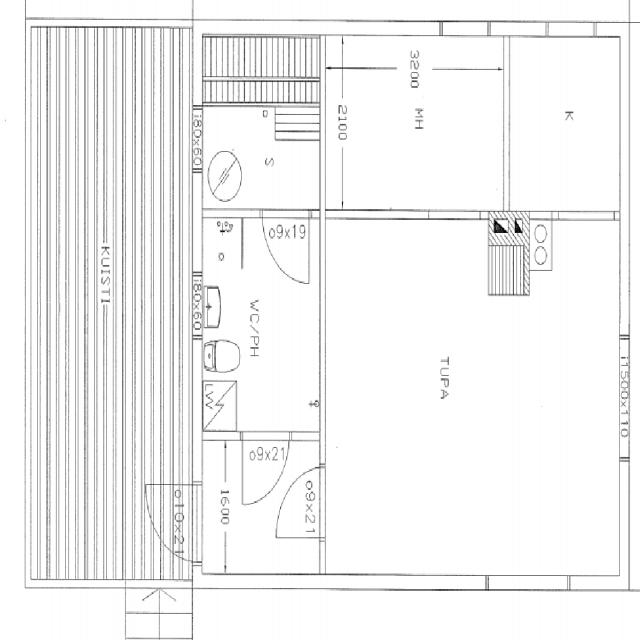door: (140, 483, 204, 562), (262, 208, 310, 290), (243, 430, 290, 510), (273, 467, 326, 536)
